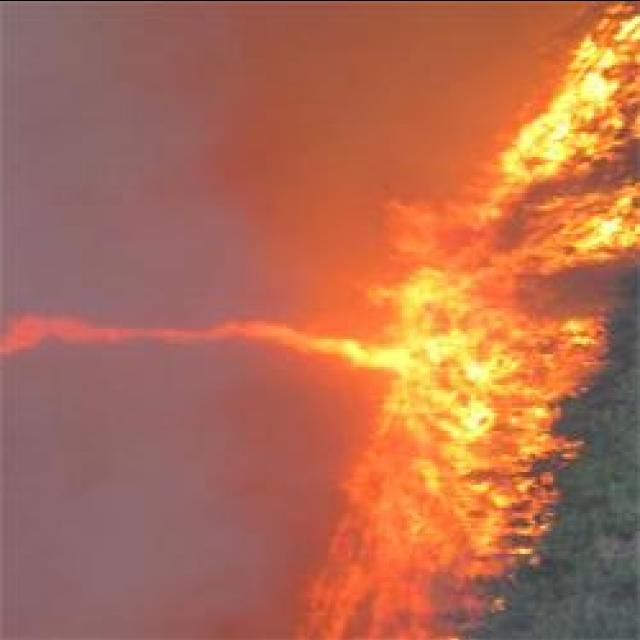fire: (497, 38, 614, 188), (402, 331, 478, 421), (570, 212, 638, 255), (409, 270, 455, 322)
smoke: (271, 536, 492, 640)
